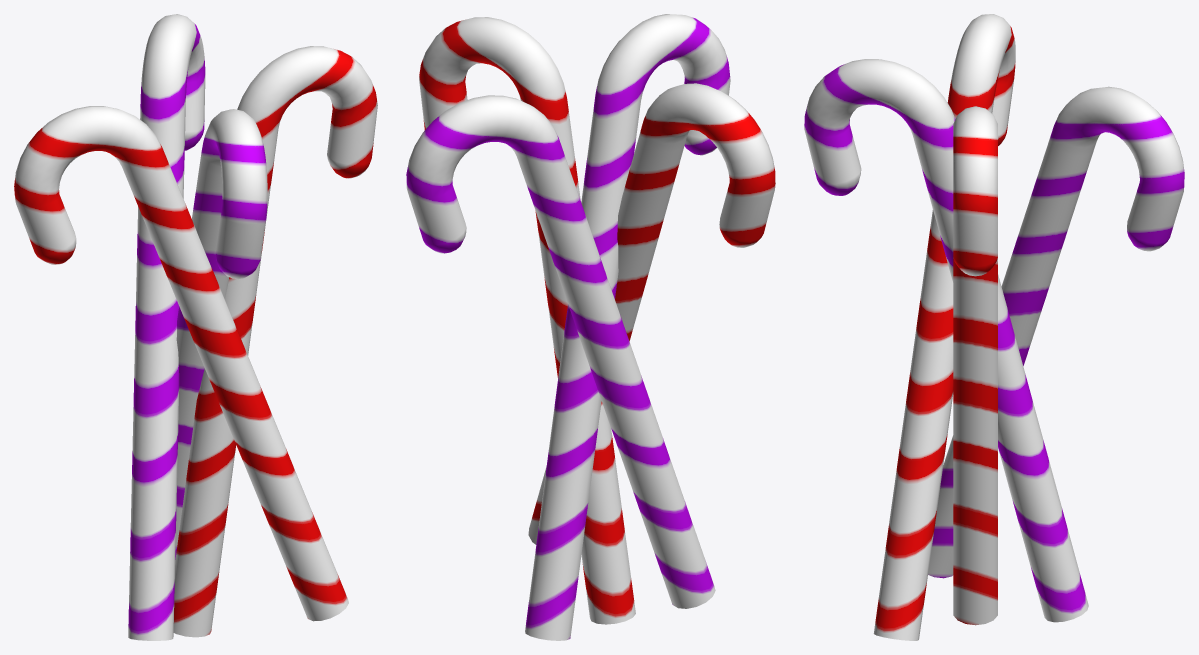
File: Candies.fbx
3 views of the same model, side by side, from view 1: azimuth 30°, elevation 25°; view 2: azimuth 150°, elevation 25°; view 3: azimuth 270°, elevation 25° (orthographic). The views are drawn at different scales.
Parts seen in each view (by area): view 1: Candies; view 2: Candies; view 3: Candies.
Boxes of the visible parts, x1,y1,x2,y2 form: Candies: (14, 14, 377, 640); Candies: (406, 14, 775, 640); Candies: (804, 14, 1184, 640).
Size of the model in its own units: 17.78 by 26.95 by 16.62.
Materials: 2 (2 with a texture image).
